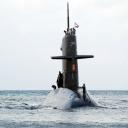submarine: (43, 1, 103, 109)
